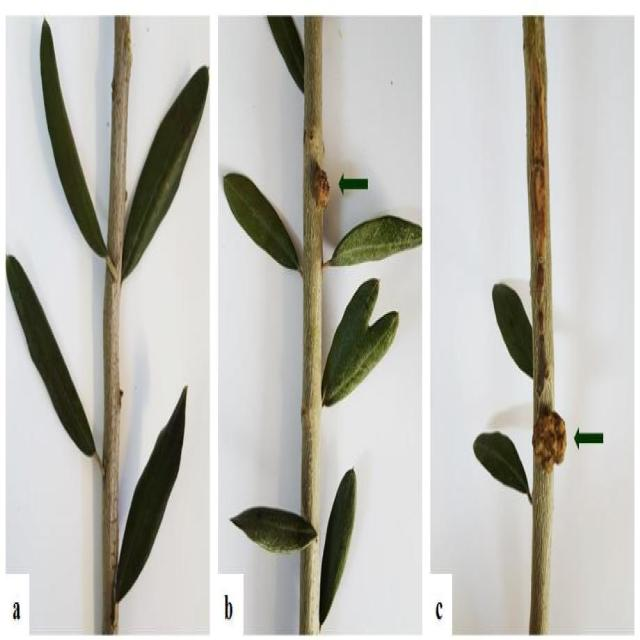Healthy: (6, 255, 101, 464), (121, 66, 207, 281), (114, 386, 186, 602), (40, 20, 106, 255), (322, 278, 399, 406), (223, 174, 301, 272), (319, 467, 356, 629), (323, 215, 422, 266), (473, 430, 532, 503), (492, 283, 533, 379), (230, 506, 317, 551), (267, 17, 304, 92)
Tuberculosis: (533, 403, 565, 472), (310, 159, 330, 209)
